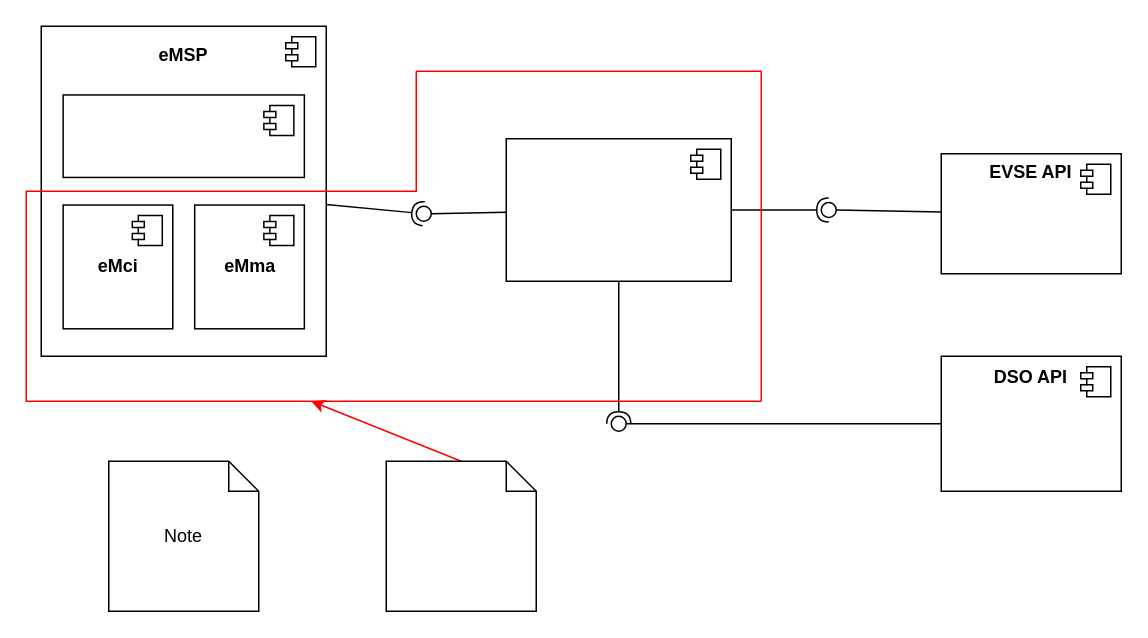
The diagram is 1148 pixels wide and 638 high, and some of its shapes have lost their labels. Each missing label, with the centre of its shape:
CPMS: point 618,209
rest of eMSP: point 183,135
What we have to build. What the actual fuck?!: point 460,535
